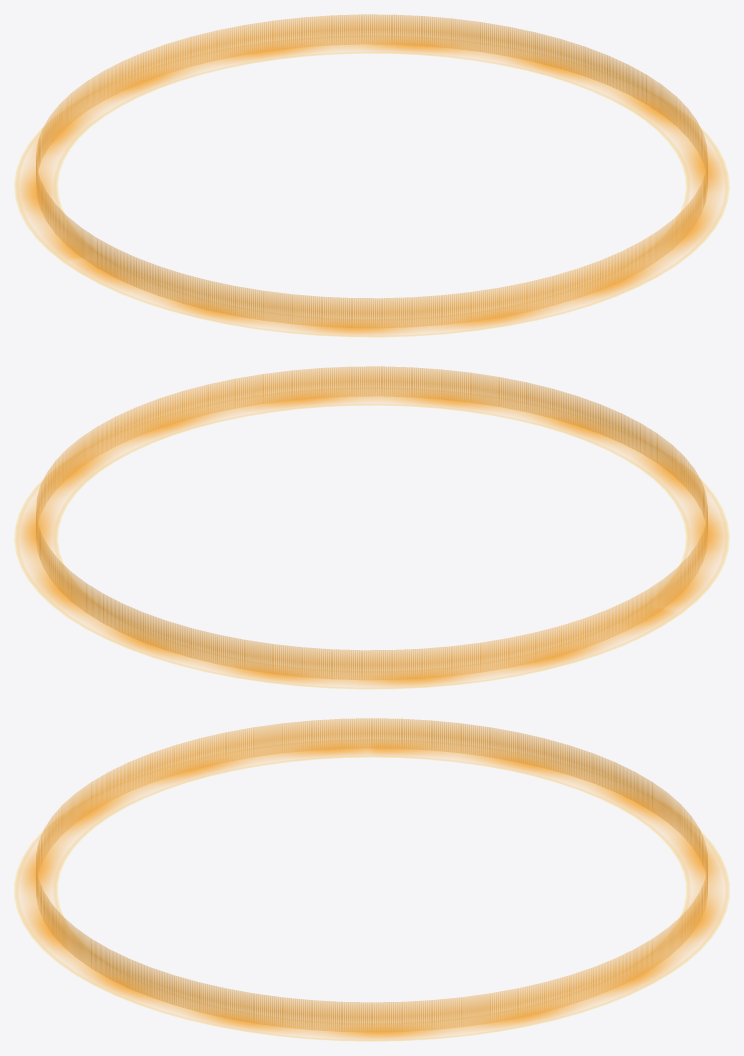
File: fx_mring3.glb
3 views of the same model, one above another, from view 1: azimuth 30°, elevation 25°; view 2: azimuth 150°, elevation 25°; view 3: azimuth 270°, elevation 25° (orthographic).
Parts seen in each view (by area): view 1: fx_burst; view 2: fx_burst; view 3: fx_burst.
Part boxes in pixels (box(x1,y1,x2,y2)): fx_burst: box(14, 14, 729, 337); fx_burst: box(14, 366, 729, 689); fx_burst: box(14, 718, 729, 1041).
Bounding box in the file's own units: 32.4 × 1.5 × 32.37.
1 material, 1 textured.
